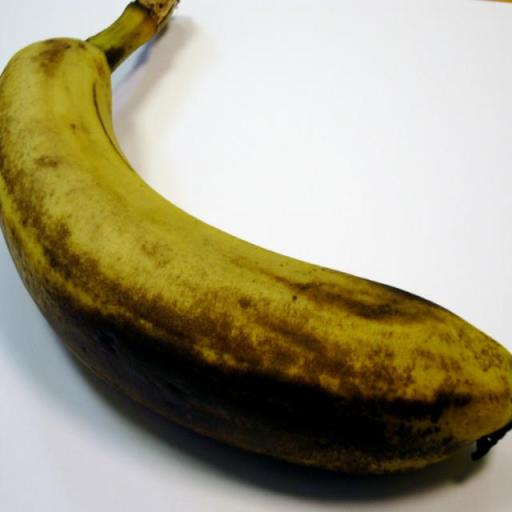fruit: (0, 0, 511, 473)
